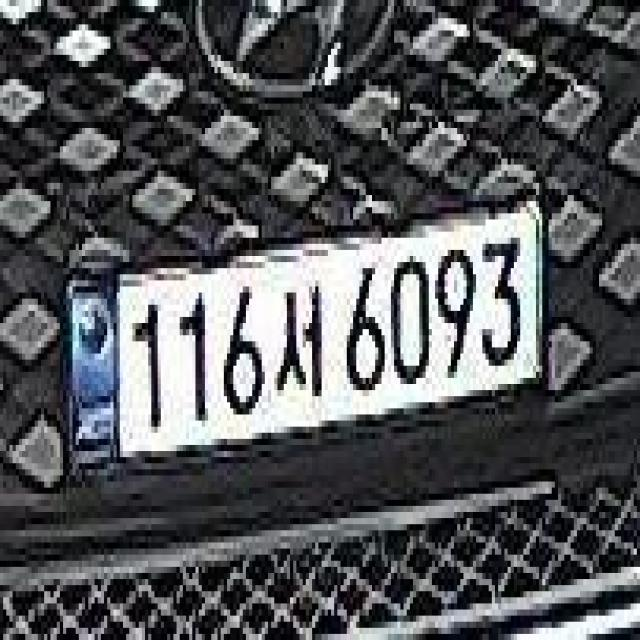illegal_plate: (72, 199, 550, 476)
